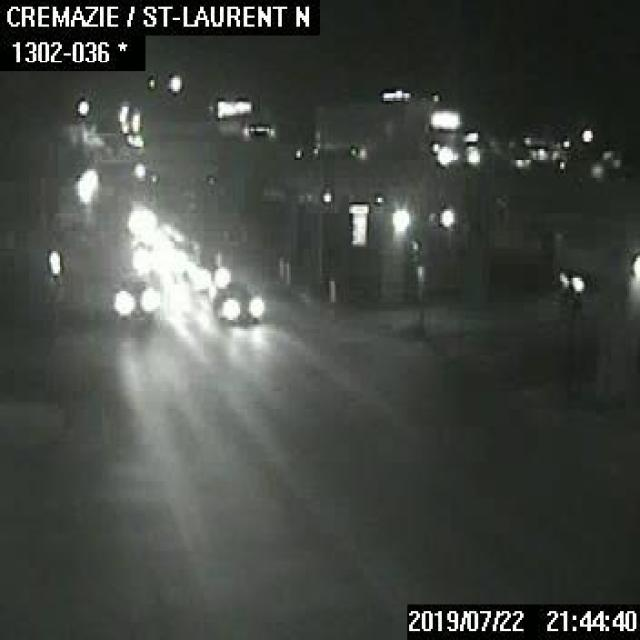vehicle: (211, 282, 267, 320), (112, 274, 156, 316)
